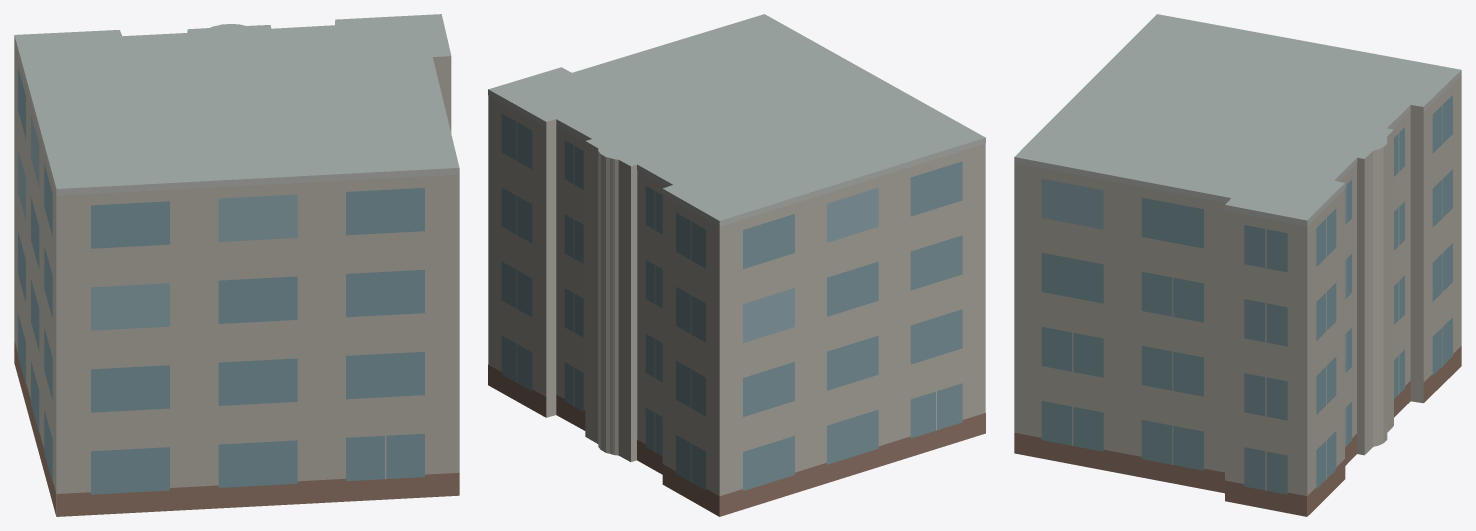
Rendered from survey-upis-32530147.glb.
3 renders of one model, left to right at view 1: azimuth 30°, elevation 25°; view 2: azimuth 150°, elevation 25°; view 3: azimuth 270°, elevation 25°, orthographic. The views are drawn at different scales.
Parts seen in each view (by area): view 1: survey-upis-32530147.tmp; view 2: survey-upis-32530147.tmp; view 3: survey-upis-32530147.tmp.
Boxes of the visible parts, x1,y1,x2,y2 form: survey-upis-32530147.tmp: (14, 14, 459, 516); survey-upis-32530147.tmp: (488, 14, 985, 516); survey-upis-32530147.tmp: (1014, 14, 1461, 516).
Bounding box in the file's own units: 18.4 × 12.3 × 16.84.
